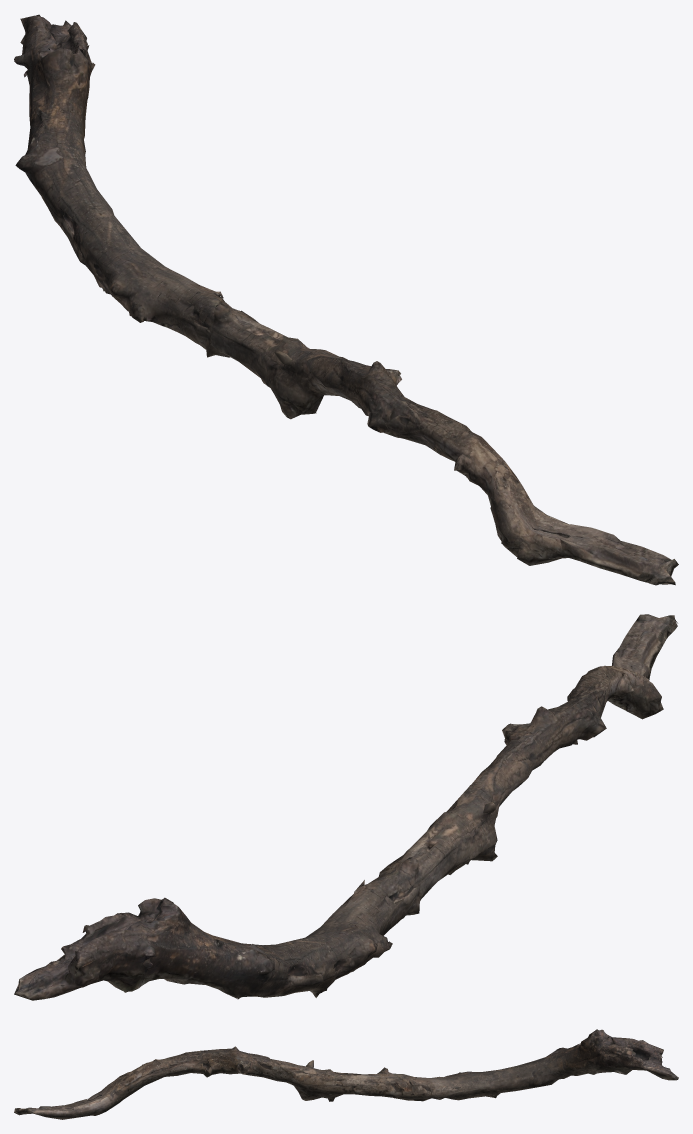
Rendered from dry_branches_medium_01_b.glb.
3 renders of one model, top to bottom at view 1: azimuth 30°, elevation 25°; view 2: azimuth 150°, elevation 25°; view 3: azimuth 270°, elevation 25°, orthographic. The views are drawn at different scales.
Visible parts, largest first — view 1: dry_branches_medium_01_b; view 2: dry_branches_medium_01_b; view 3: dry_branches_medium_01_b.
Boxes of the visible parts, left/top/right/bottom form: dry_branches_medium_01_b: left=14, top=14, right=678, bottom=585; dry_branches_medium_01_b: left=14, top=614, right=677, bottom=1000; dry_branches_medium_01_b: left=14, top=1029, right=678, bottom=1119.
Bounding box in the file's own units: 0.1513 × 0.1421 × 1.04.
1 material, 1 textured.
